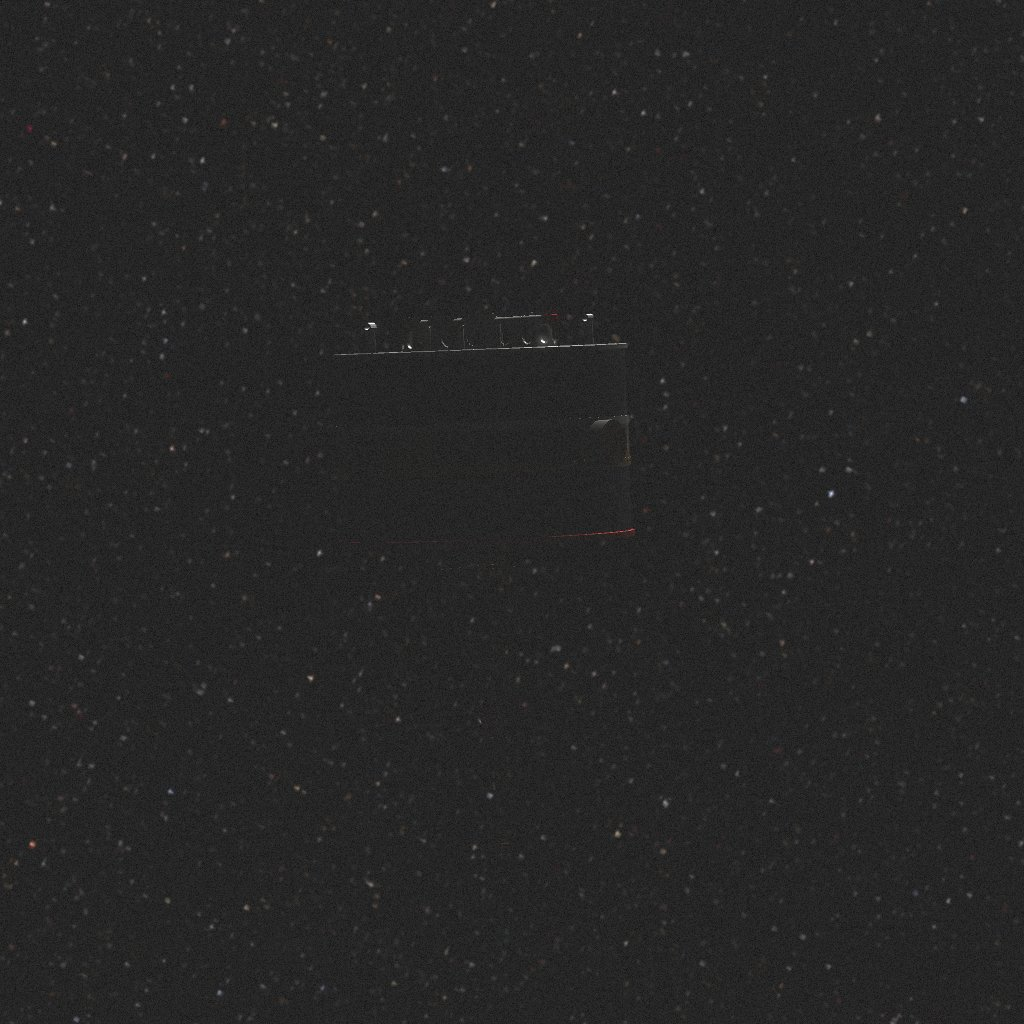double_star: (332, 305, 635, 853)
